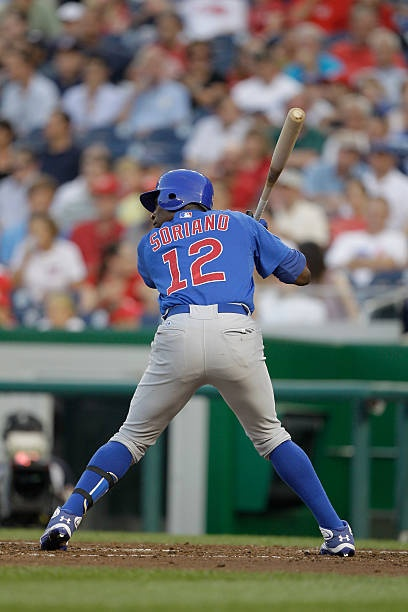bita: (249, 107, 300, 221)
